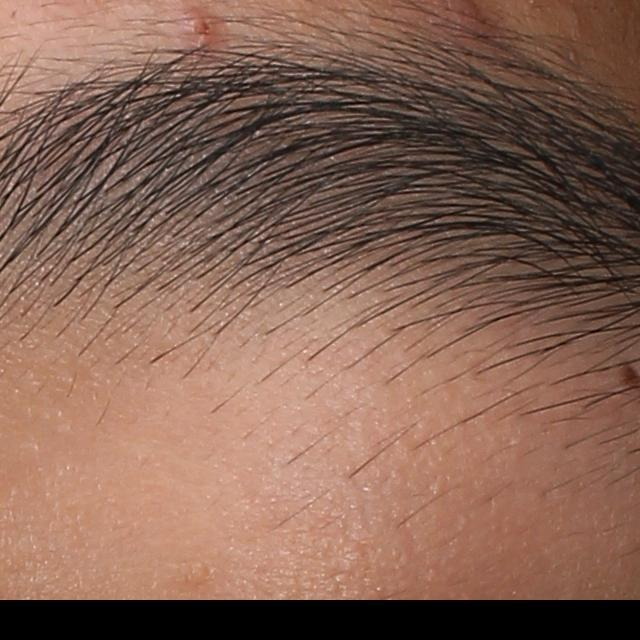papule: (180, 2, 224, 63)
